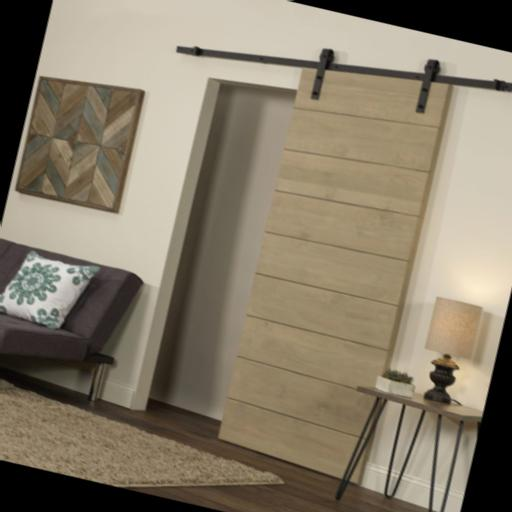Door: (89, 1, 512, 500)
